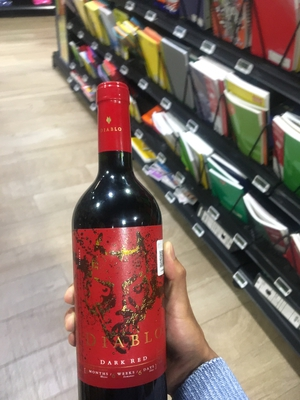diablo dark red: (66, 74, 175, 400)
